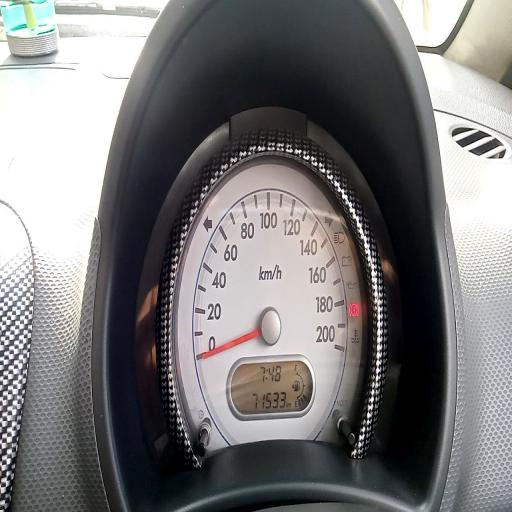brake_system_fault: (348, 301, 358, 318)
